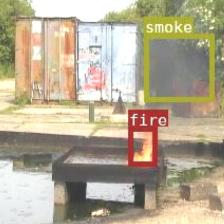fire: (128, 126, 156, 164)
smoke: (143, 33, 213, 101)
